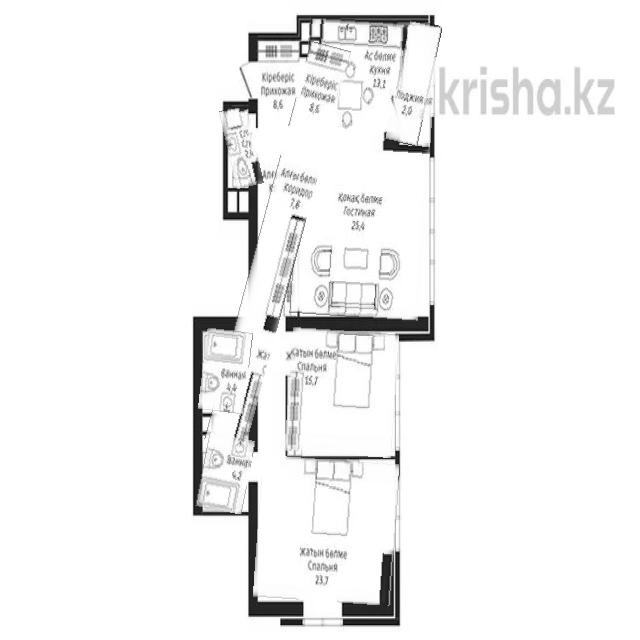balcony: (386, 19, 441, 144)
bathroom: (195, 433, 255, 514), (198, 330, 253, 414), (220, 106, 260, 189)
hallway: (204, 43, 351, 452)
living_room: (253, 457, 400, 606), (284, 328, 399, 458)
studio: (290, 17, 430, 321)
